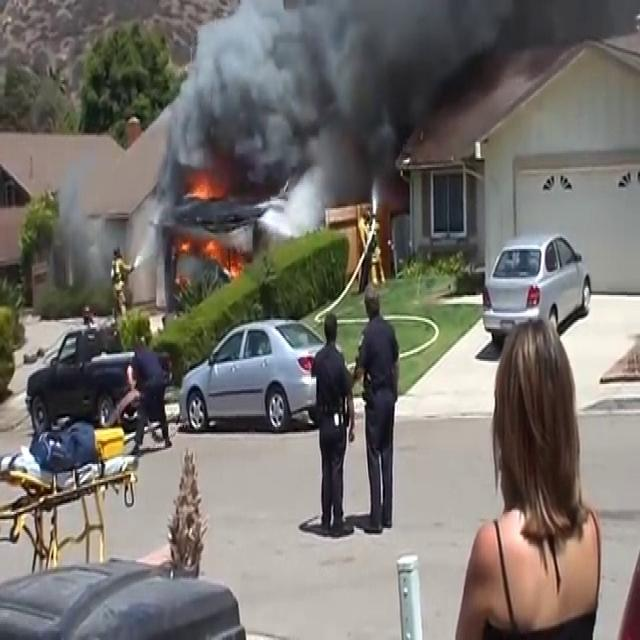Fire: (181, 170, 216, 202)
Smoke: (164, 1, 458, 218)
